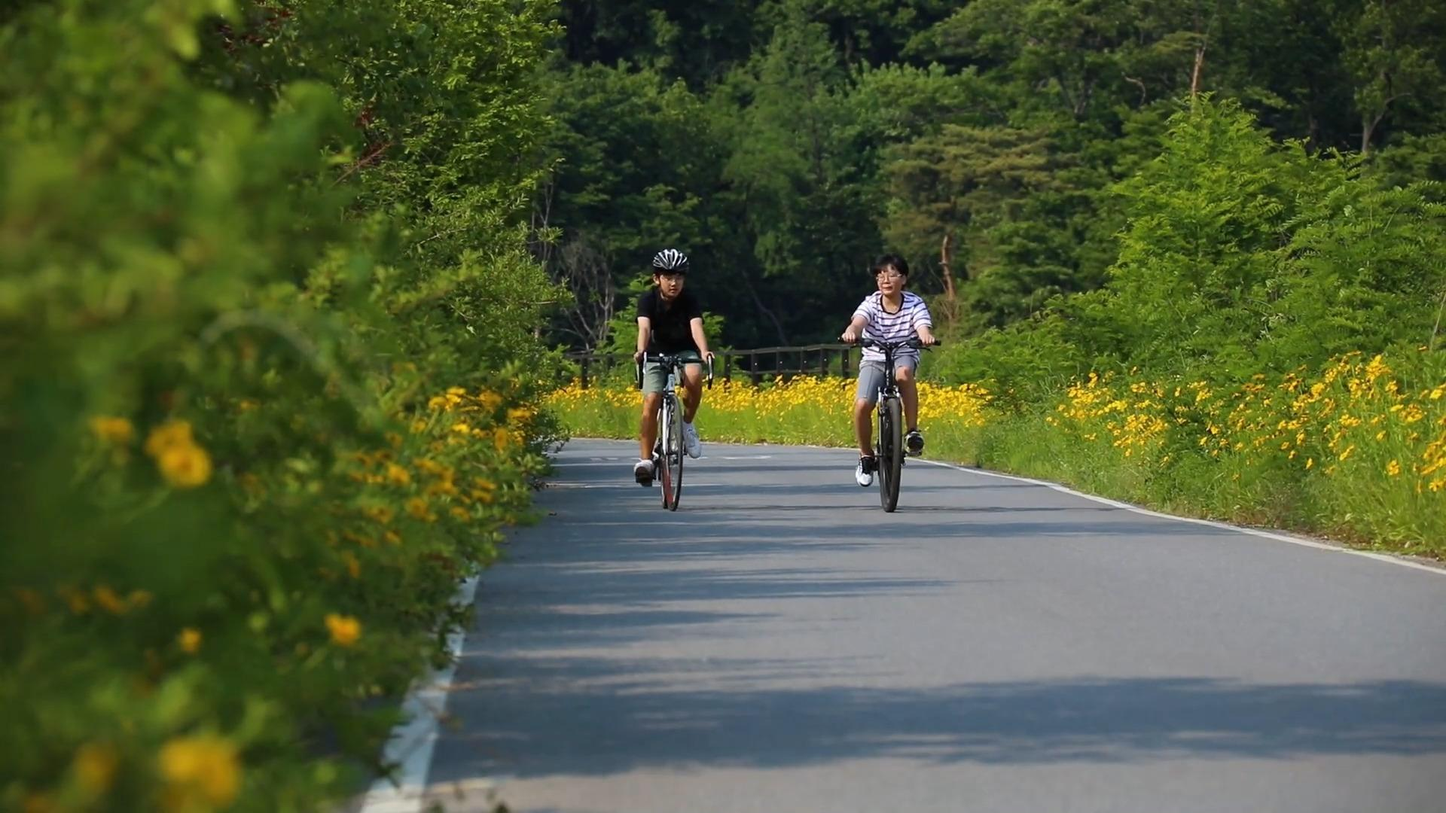bicyclist: (837, 253, 943, 512), (632, 249, 716, 513)
helmet: (652, 249, 690, 298)
no-helmet: (873, 253, 910, 297)
